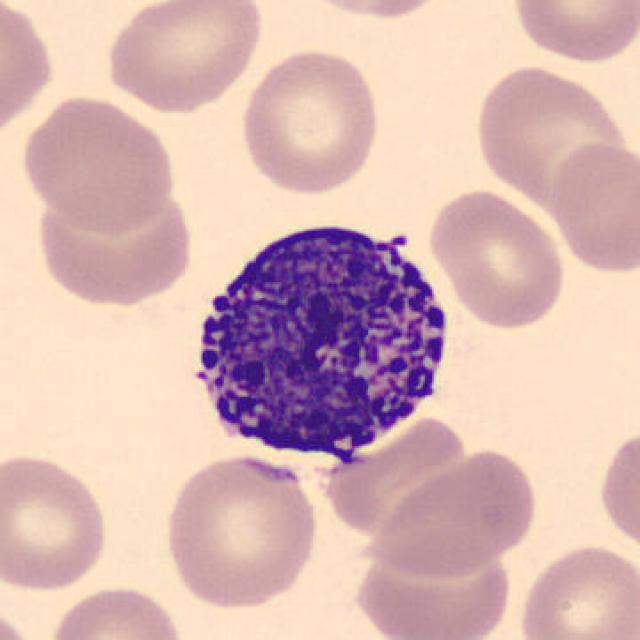Basophil: (176, 203, 462, 483)
RBC: (158, 449, 322, 612), (469, 60, 633, 210), (16, 90, 180, 236), (370, 444, 542, 578), (236, 44, 384, 198), (27, 179, 194, 307), (425, 185, 569, 332), (101, 0, 267, 115), (349, 532, 519, 640), (0, 450, 114, 594), (328, 420, 466, 537), (548, 136, 638, 277), (513, 539, 638, 640), (507, 0, 638, 67), (44, 582, 188, 640), (0, 0, 57, 146), (596, 421, 638, 559), (286, 0, 459, 21), (0, 599, 48, 640)
